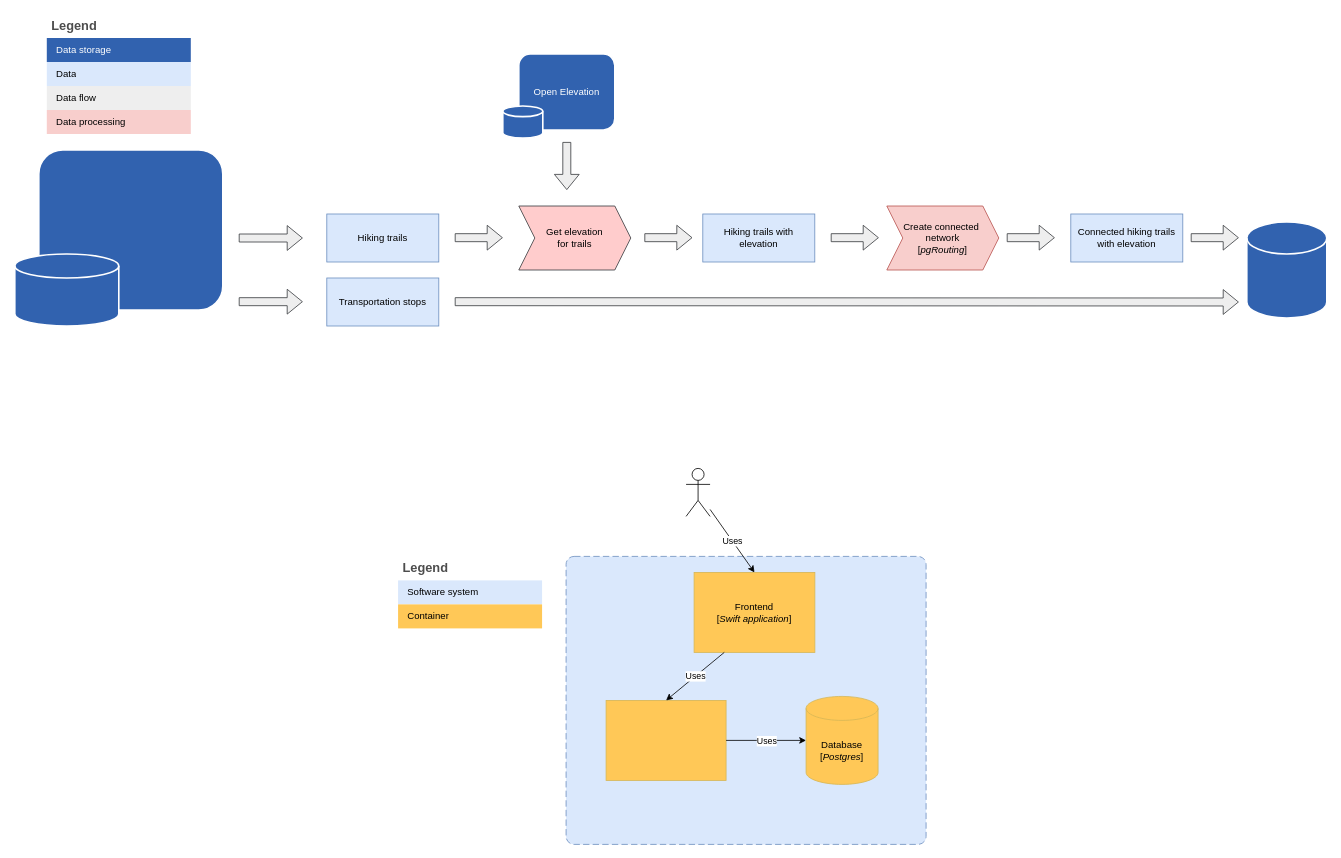
Some shapes in this 1341 by 858 pixel diagram are drawn without their labels. Here are the shapes that lost their labels. From the top down, the box of each, then its label:
(38, 149, 223, 310): Open Data Hub
(1246, 221, 1327, 318): Bus2Hike Database
(685, 468, 710, 516): Actor
(565, 556, 926, 844): Bus2Hike [System]
(605, 700, 726, 780): Backend API [ Python fastAPI server ]
